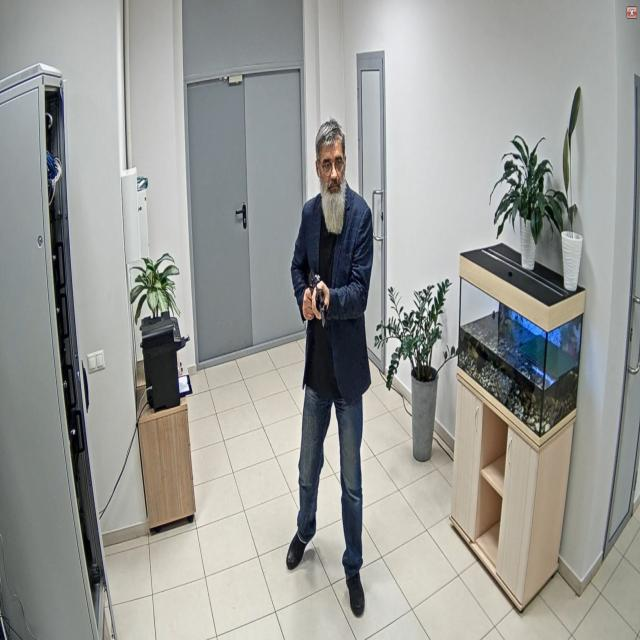-Gun: (309, 268, 326, 326)
